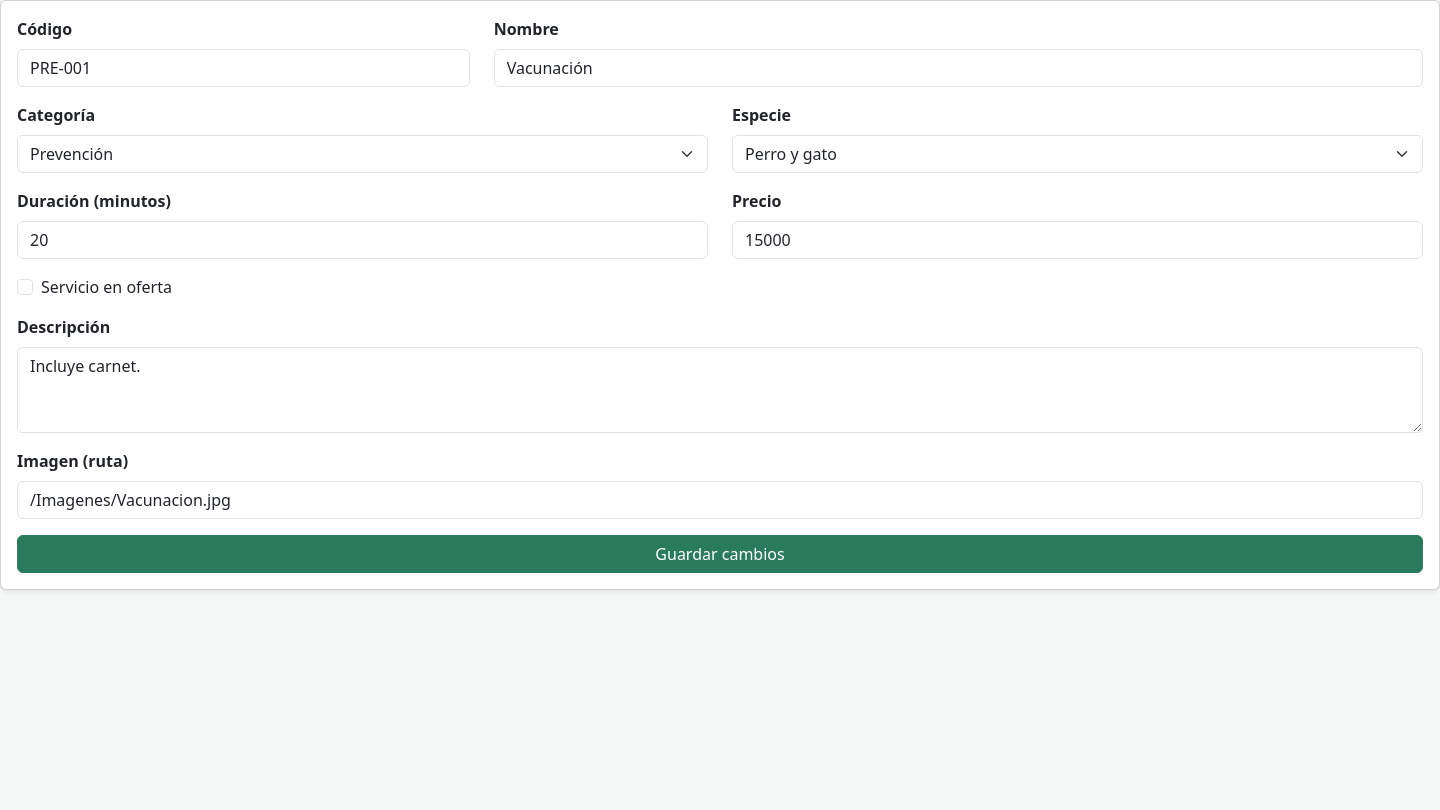
Test: FormularioServicio › muestra el campo de precio de oferta solo si se marca la casilla
The width and height of the screenshot is (1440, 810).
Expected: the field labelled "Precio de oferta" is not shown
Click the checkbox labelled "Servicio en oferta" at [25, 287], box x1=17 y1=279 x2=33 y2=295
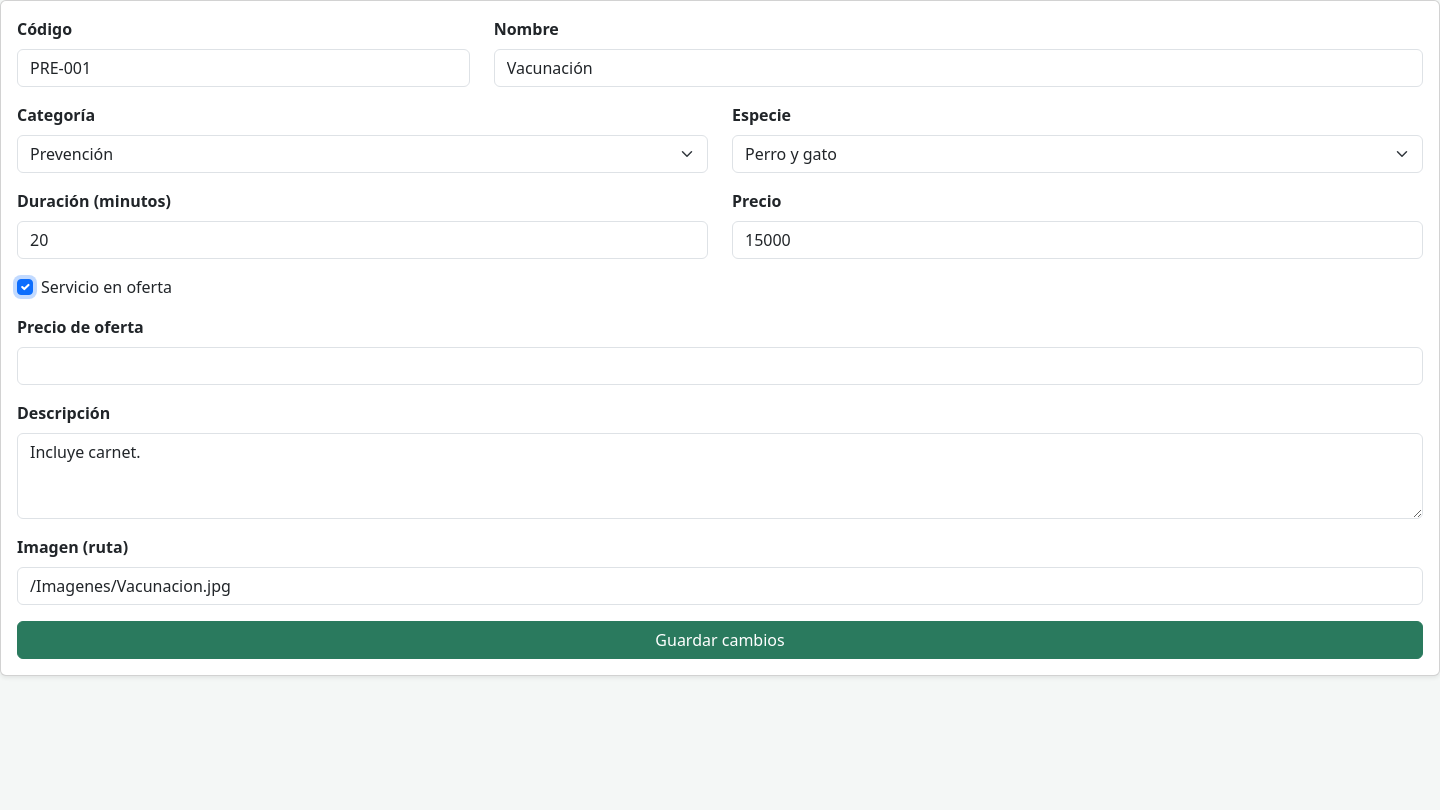
Now the field labelled "Precio de oferta" is shown, box x1=17 y1=347 x2=1423 y2=385
